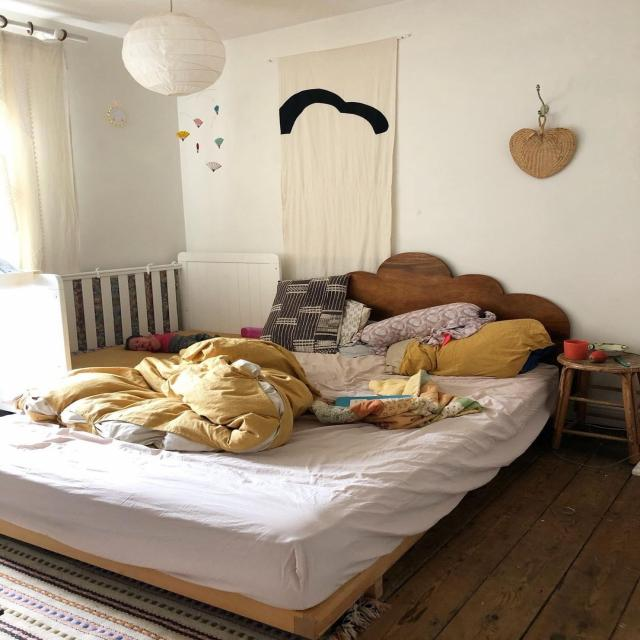bed: (10, 236, 562, 584)
